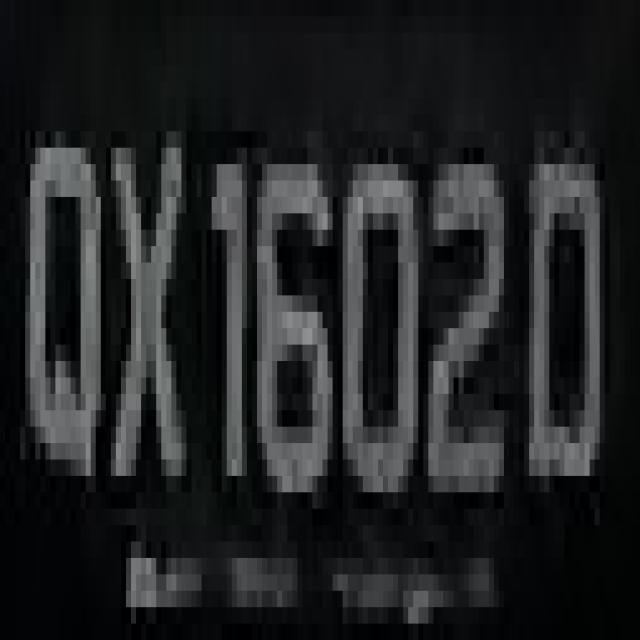0: (338, 99, 428, 525)
1: (212, 82, 242, 509)
2: (418, 131, 514, 542)
6: (247, 131, 333, 509)
D: (529, 115, 610, 476)
Q: (15, 82, 106, 509)
X: (106, 99, 191, 542)
